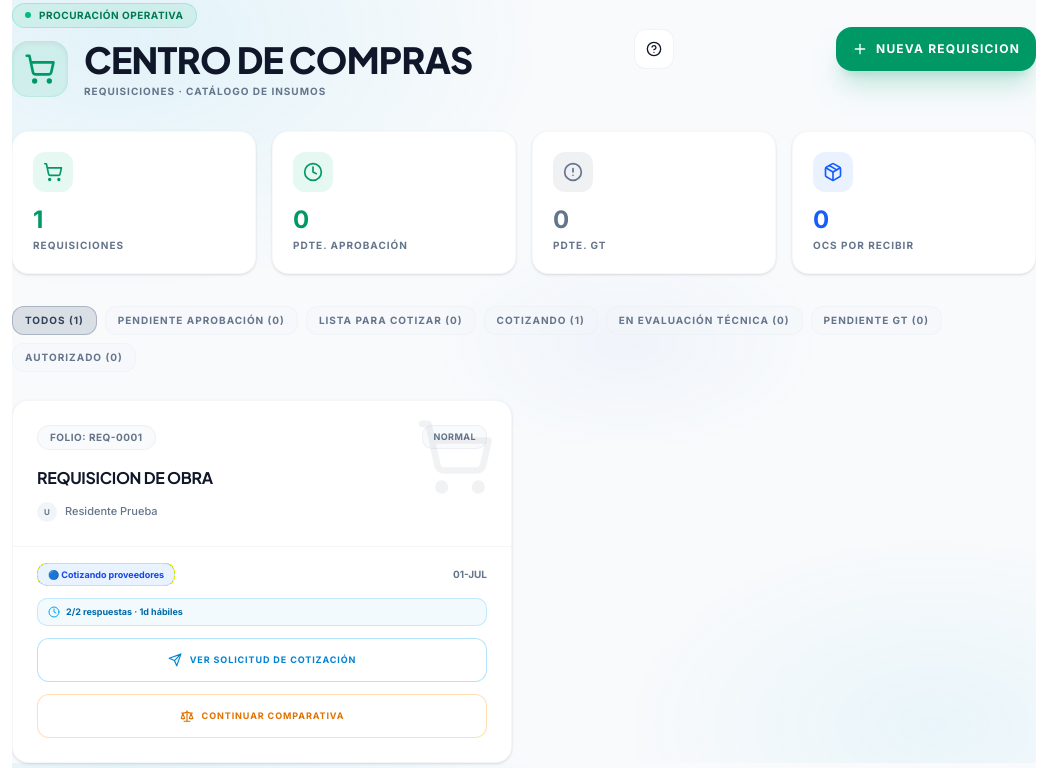
it: ComprasView — reabrir Cuadro Comparativo ya creado › repuebla los proveedores invitados en la Solicitud de Cotización al hacer clic en "Continuar comparativa"
The width and height of the screenshot is (1048, 768).
Click the button "Continuar comparativa".
click(262, 716)  # box [37,694,487,738]
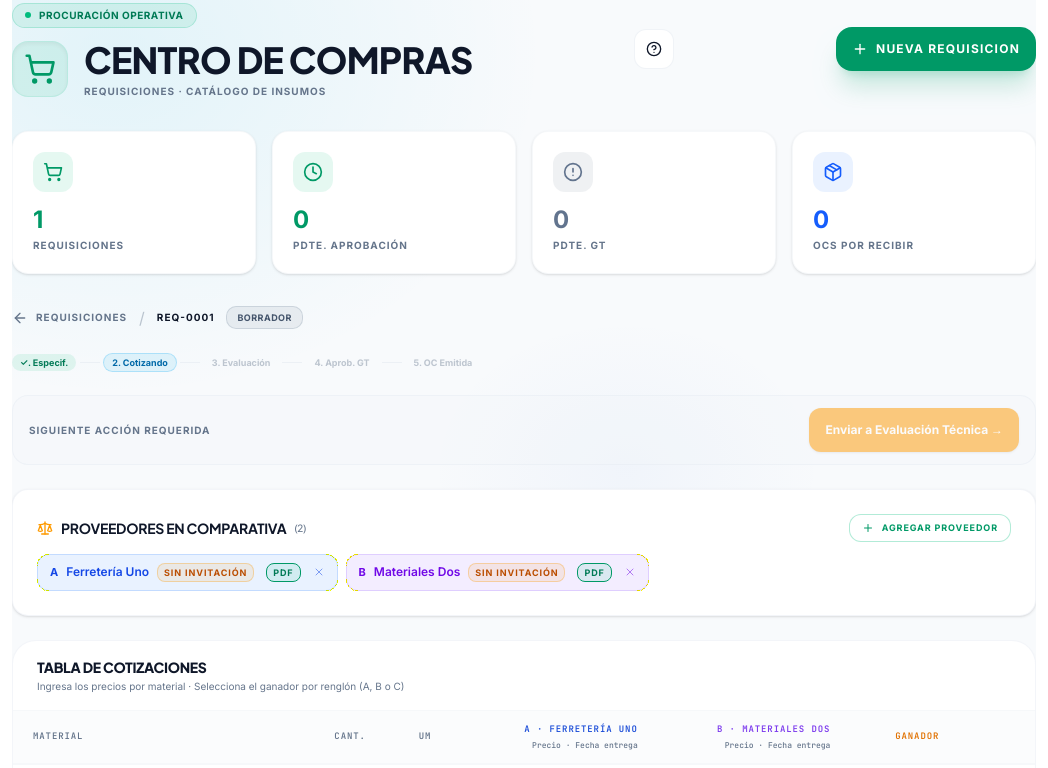
Now the text "Ferretería Uno" is shown, box [66,564,149,580]
Now the text "Materiales Dos" is shown, box [374,564,460,580]
